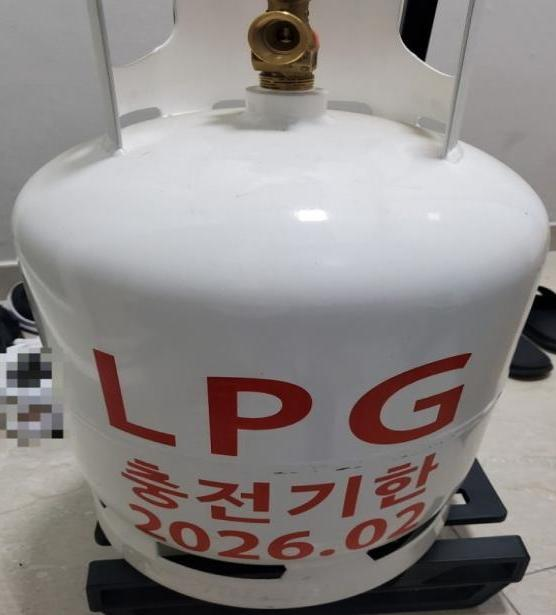cylinder: (1, 0, 556, 615)
